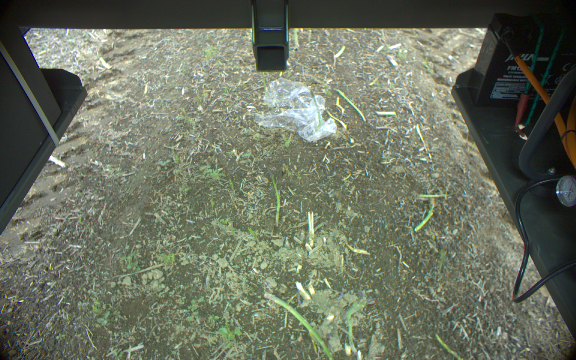aspa: (260, 292, 328, 360), (336, 292, 367, 355), (334, 84, 368, 126), (266, 167, 286, 228), (320, 108, 349, 135), (414, 199, 436, 233), (307, 92, 323, 134)
